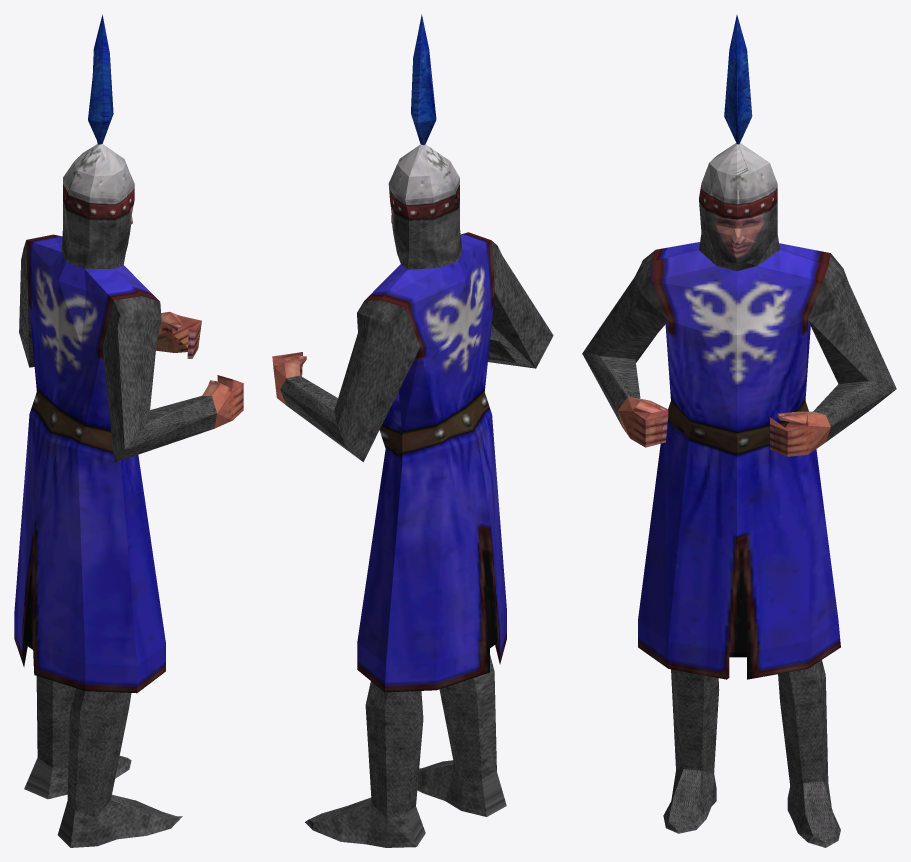
File: guard.glb
3 renders of one model, left to right at view 1: azimuth 30°, elevation 25°; view 2: azimuth 150°, elevation 25°; view 3: azimuth 270°, elevation 25°, orthographic.
Visible parts, largest first — view 1: guard; view 2: guard; view 3: guard.
Part boxes in pixels (x1,y1,x2,y2): guard: (14,14,243,847); guard: (272,14,553,847); guard: (582,15,896,847).
Bounding box in the file's own units: 23.22 × 89.62 × 31.89.
1 material, 1 textured.
